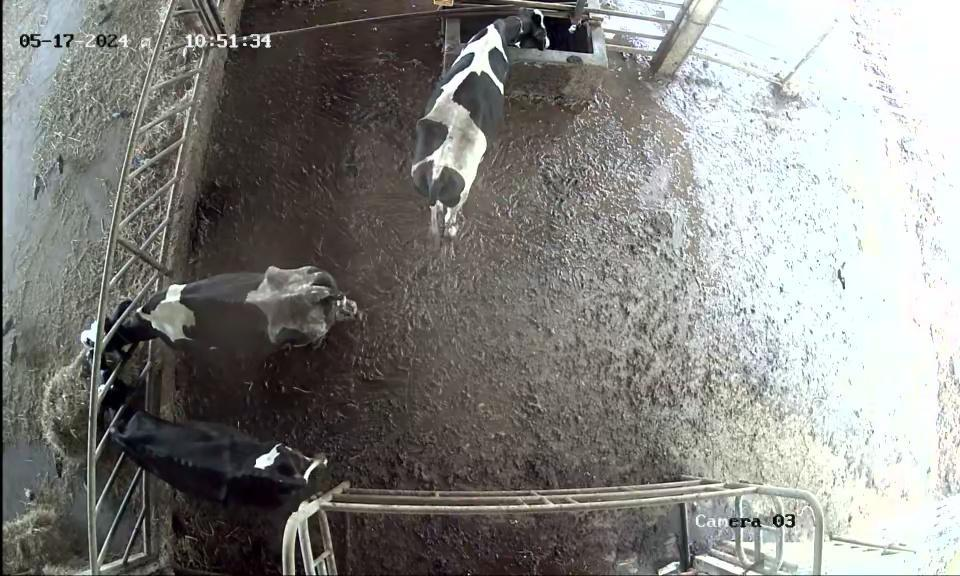drink: (468, 0, 558, 111)
eat: (54, 282, 183, 366), (63, 369, 170, 465)
